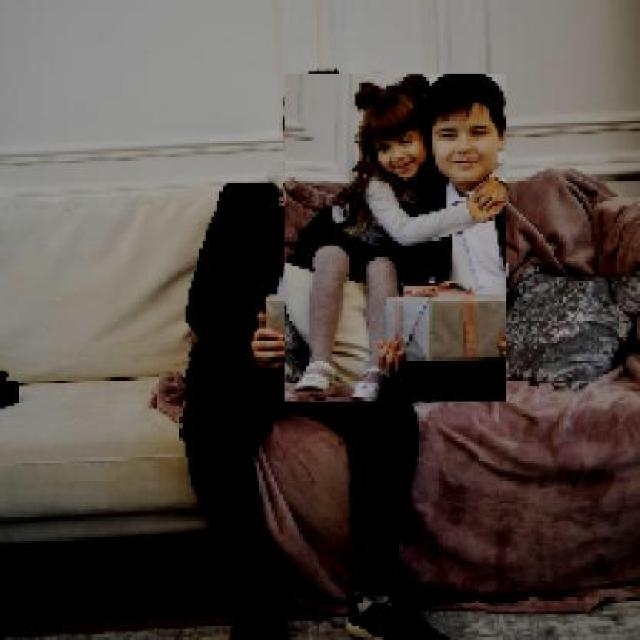child: (283, 74, 506, 403)
